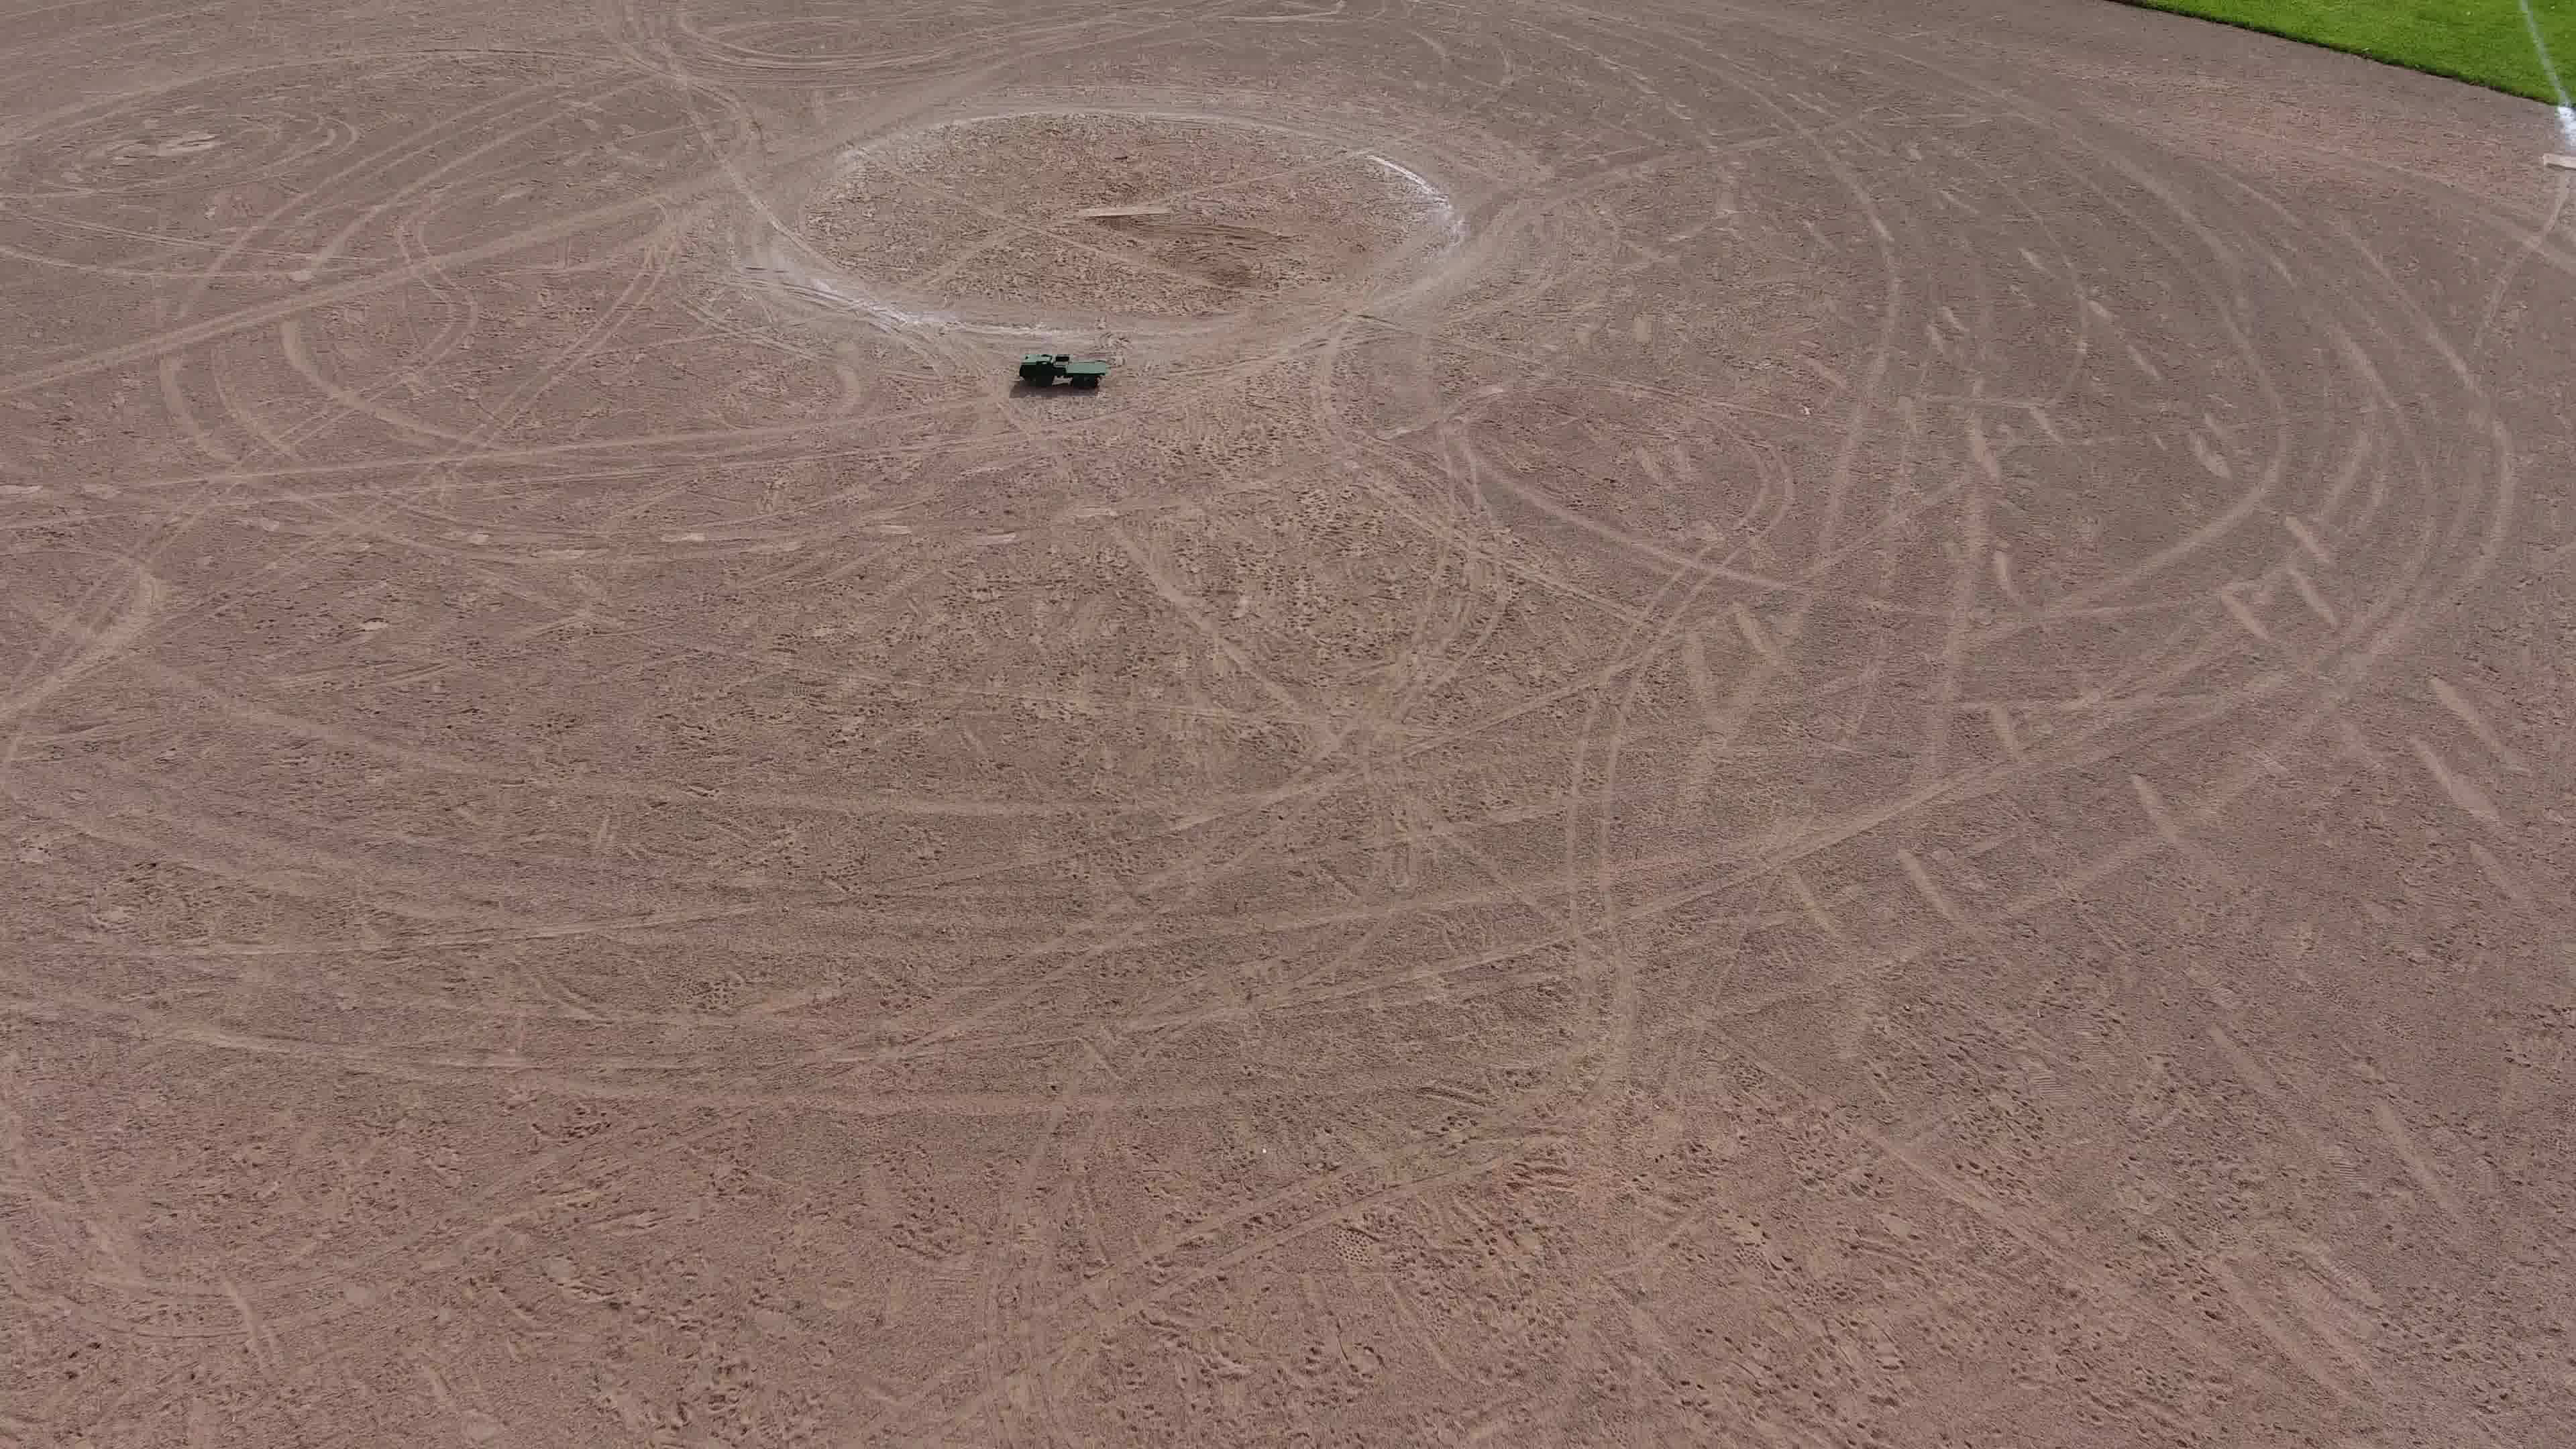transporter9: (1016, 352, 1108, 393)
